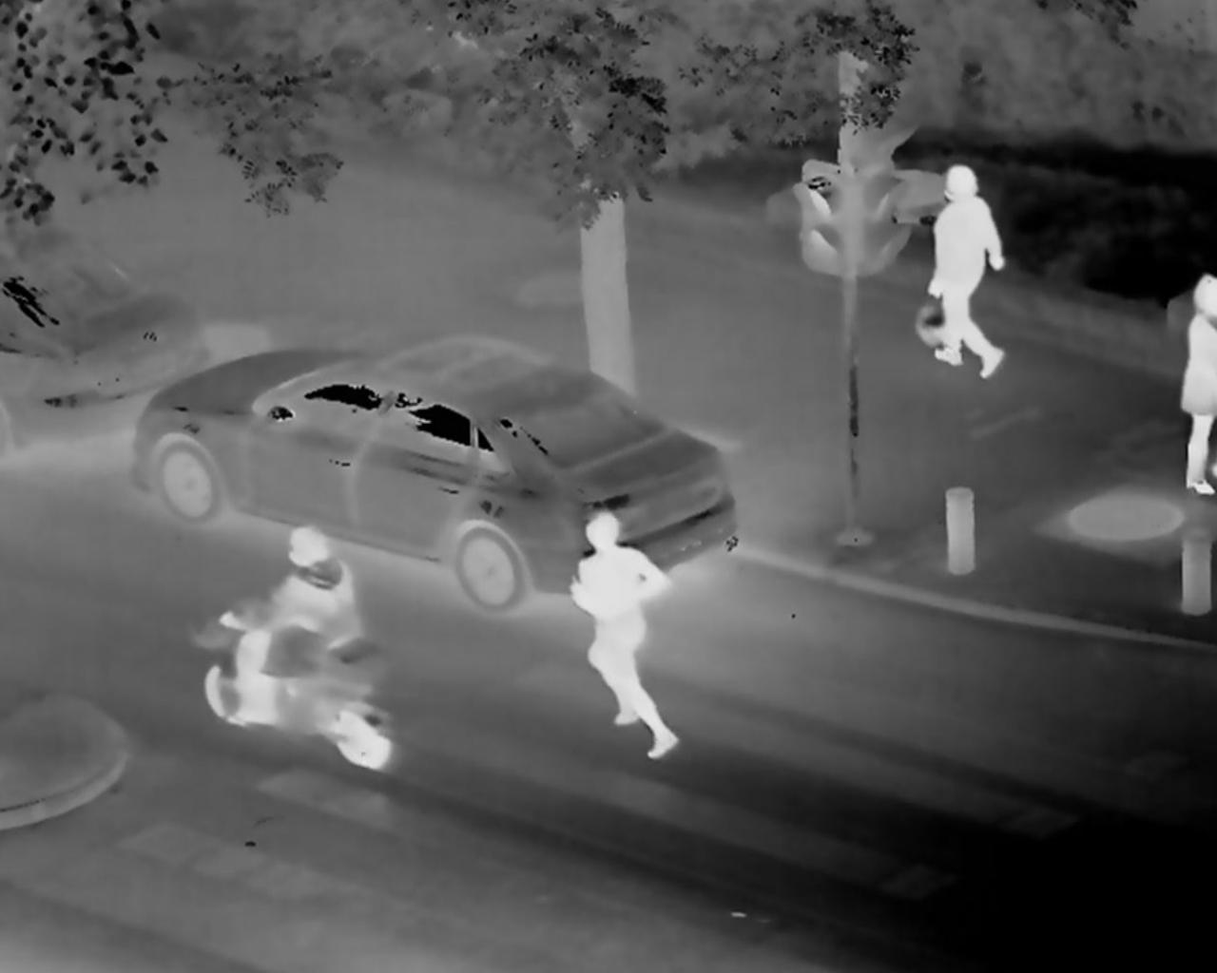person: (195, 521, 401, 778), (557, 506, 690, 768), (892, 160, 1007, 382), (1174, 270, 1217, 495)
